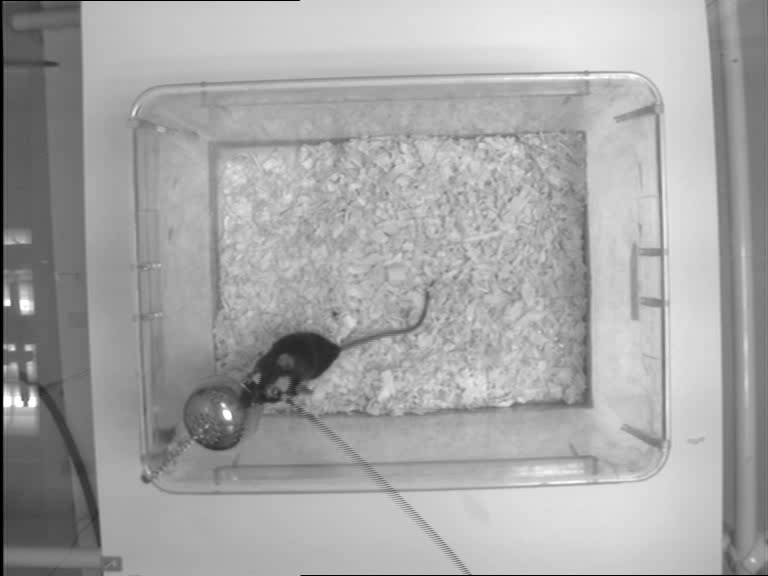mice: (243, 288, 433, 405)
